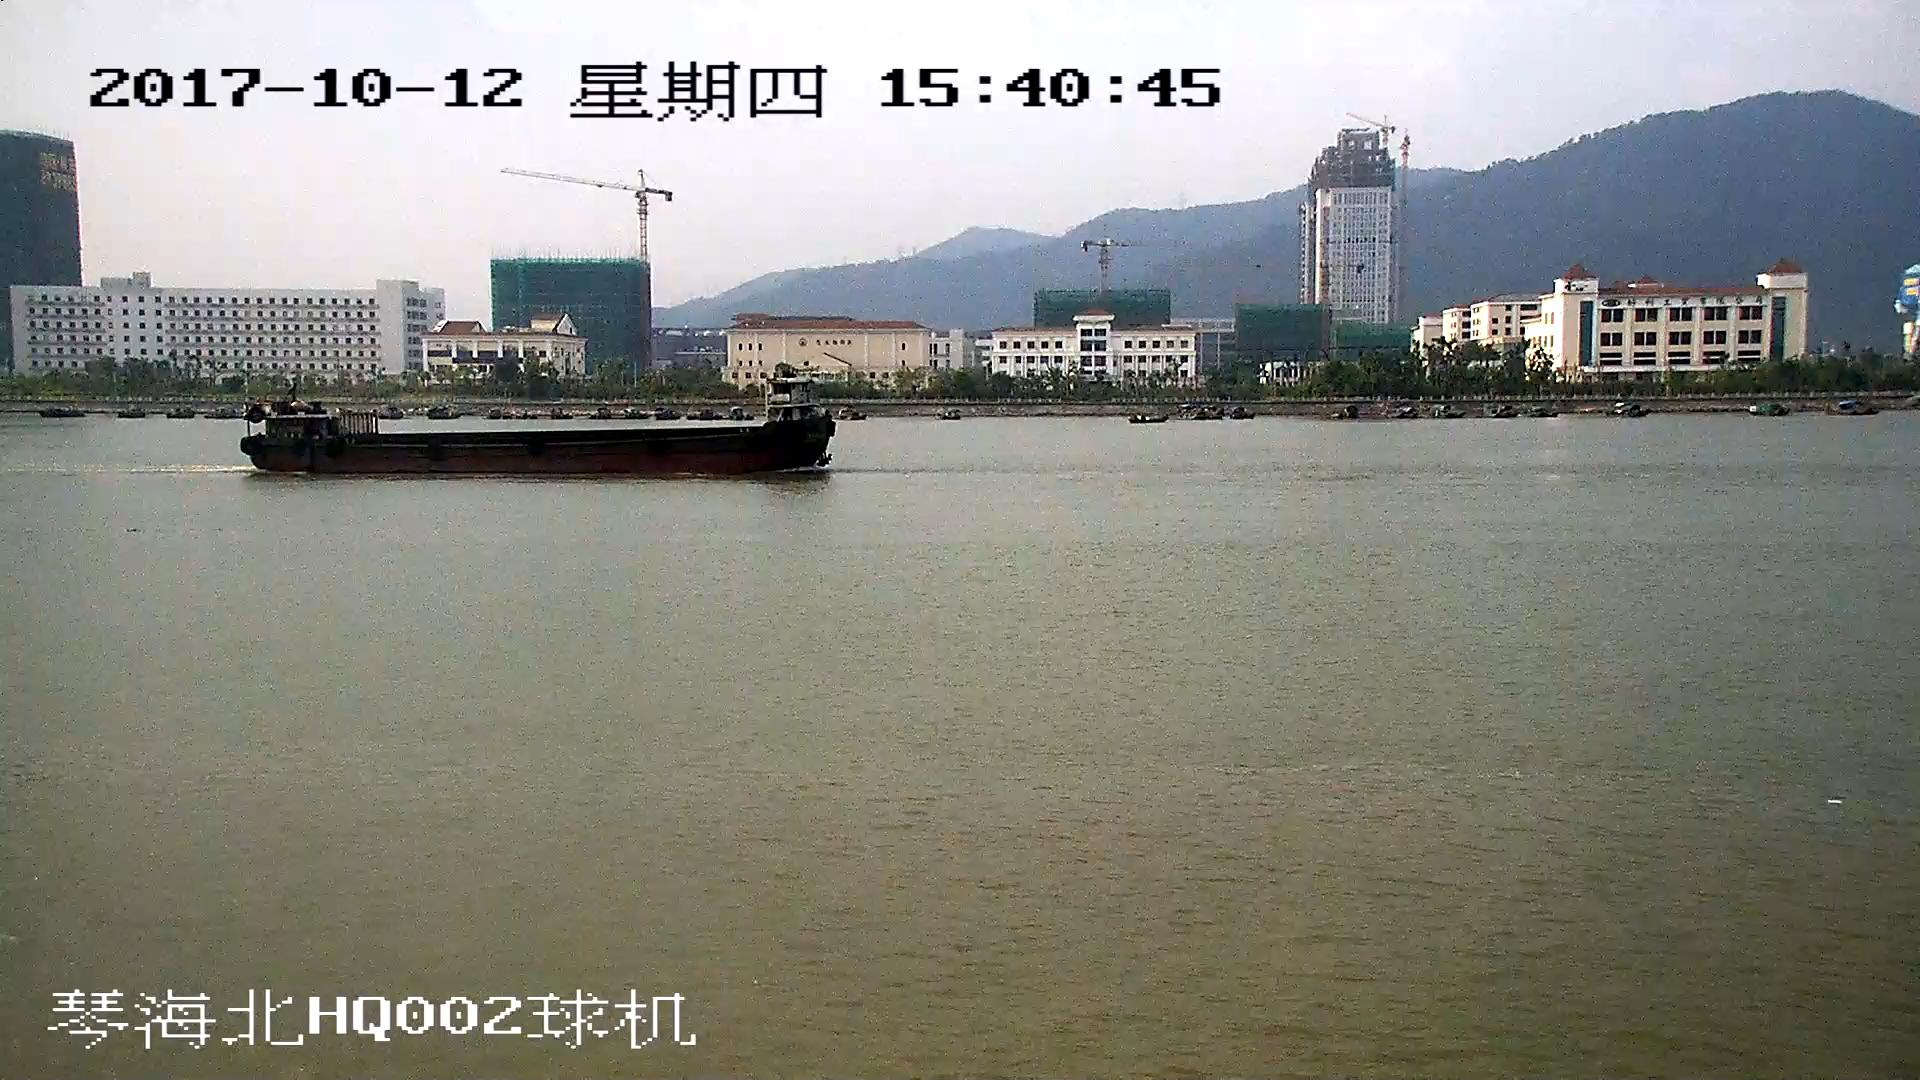general cargo ship: (242, 375, 833, 479)
